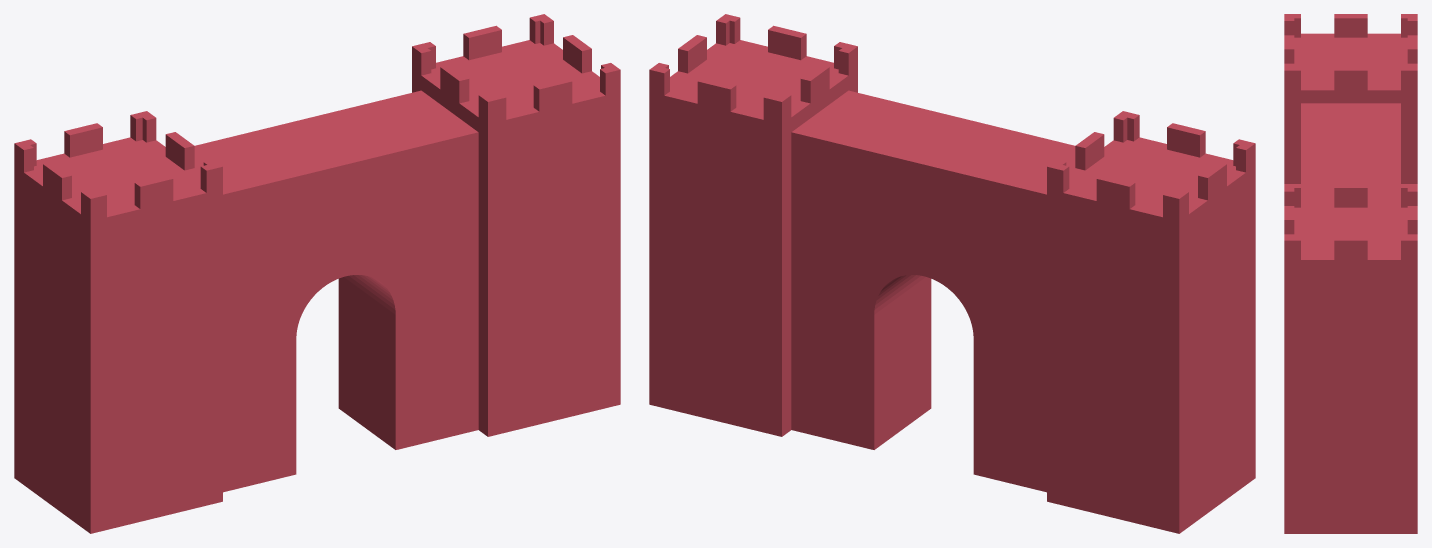
File: bodaciousLappi.glb
3 renders of one model, left to right at view 1: azimuth 30°, elevation 25°; view 2: azimuth 150°, elevation 25°; view 3: azimuth 270°, elevation 25°, orthographic. The views are drawn at different scales.
Parts seen in each view (by area): view 1: Mesh_Mesh_head_geo.001_lambert2SG.001; view 2: Mesh_Mesh_head_geo.001_lambert2SG.001; view 3: Mesh_Mesh_head_geo.001_lambert2SG.001.
Boxes of the visible parts, x1,y1,x2,y2 form: Mesh_Mesh_head_geo.001_lambert2SG.001: [14, 14, 620, 533]; Mesh_Mesh_head_geo.001_lambert2SG.001: [649, 14, 1255, 533]; Mesh_Mesh_head_geo.001_lambert2SG.001: [1284, 14, 1417, 533].
Size of the model in its own units: 197 by 119 by 49.
